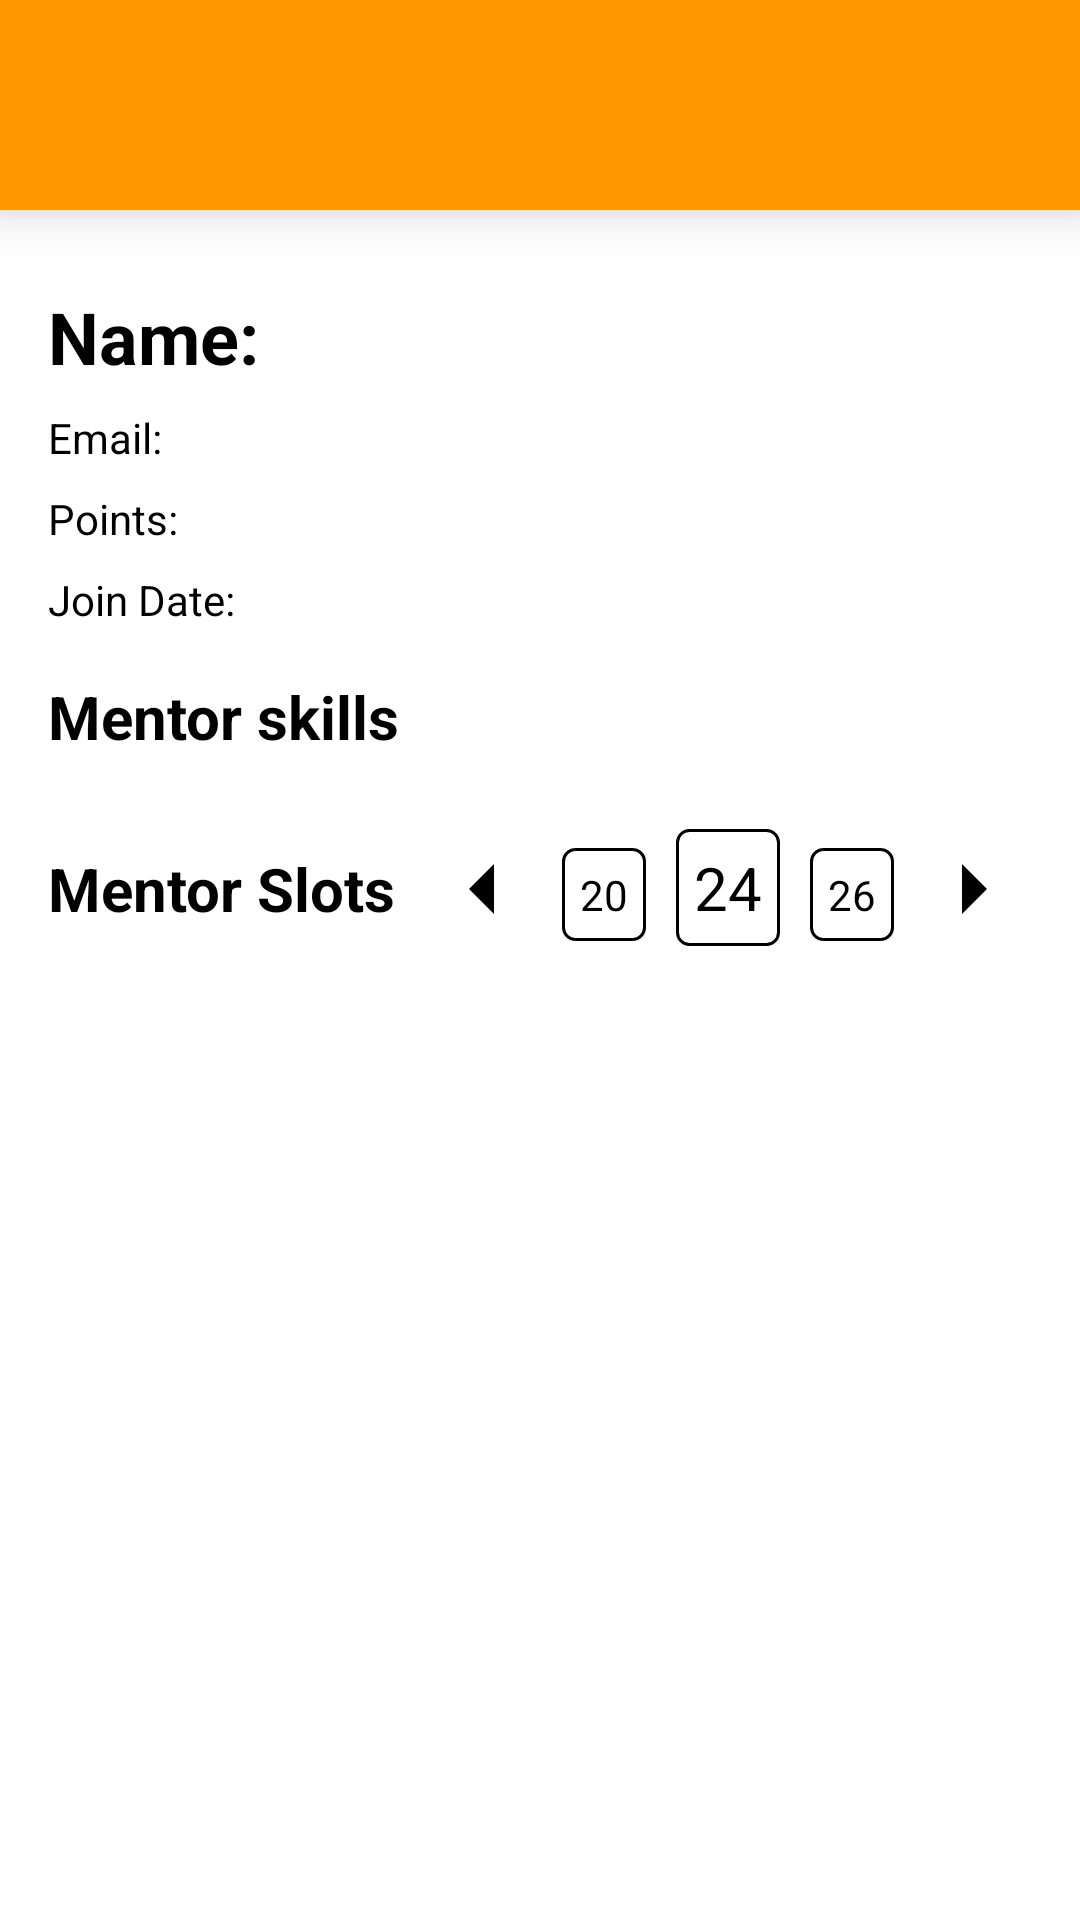

Locate icon controls on the screen. Image size 1080px x 1920px, boxes as (x1, y1, x2, y2).
arrow left: (469, 864, 494, 914)
arrow right: (962, 864, 987, 914)
